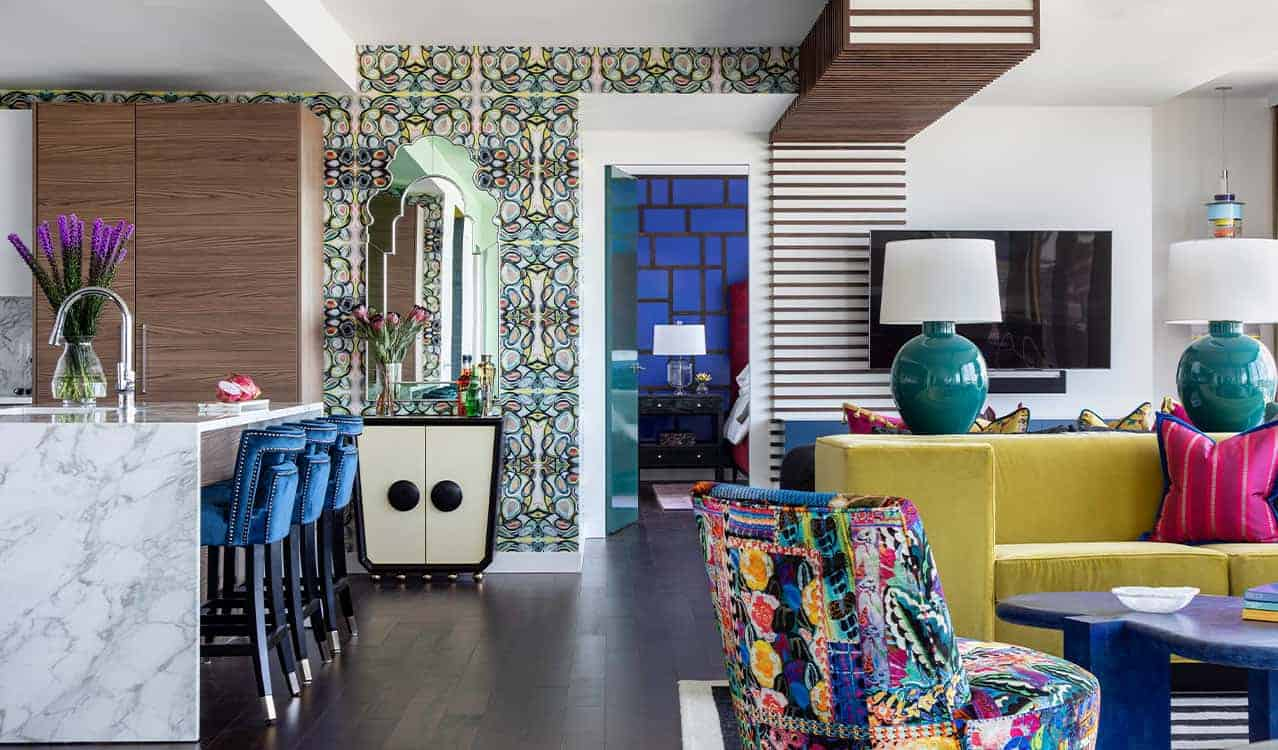biru: (1004, 594, 1278, 742), (230, 421, 359, 541)
coklat: (137, 103, 326, 402)
hijau: (895, 330, 987, 434), (1178, 328, 1270, 432)
hitam: (1016, 230, 1111, 372), (428, 481, 464, 514), (384, 480, 420, 513)
putih: (881, 239, 1007, 323), (1152, 237, 1278, 321), (1114, 585, 1200, 612), (651, 322, 709, 357)
ungu: (1161, 423, 1272, 540)
